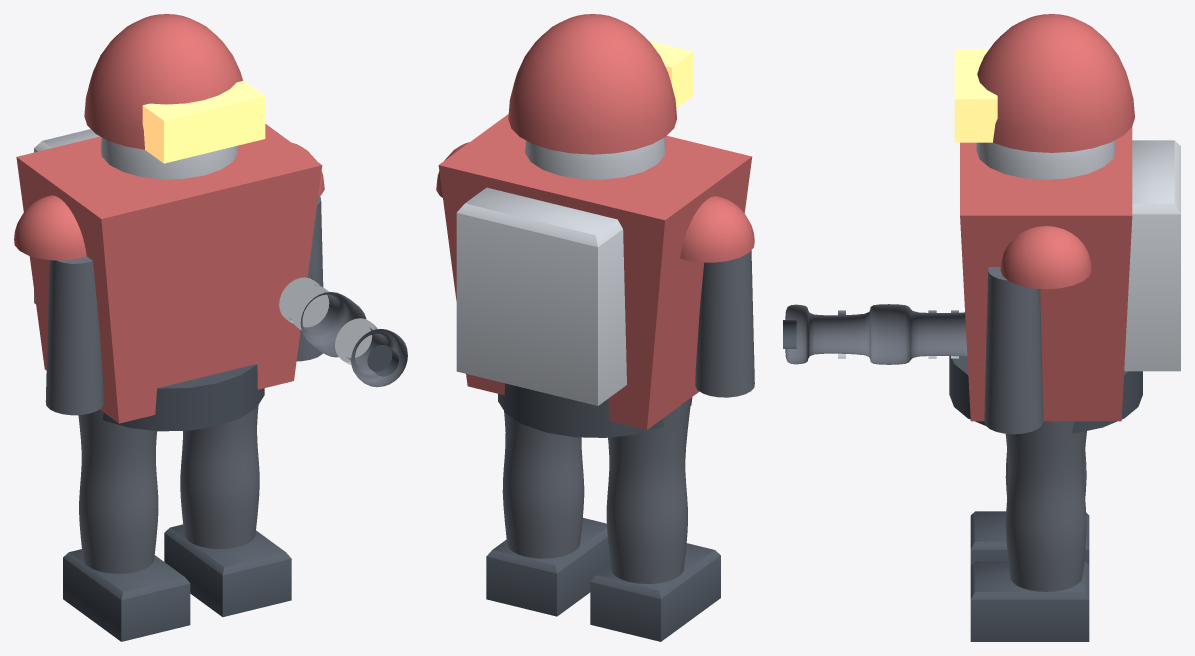
3 renders of one model, left to right at view 1: azimuth 30°, elevation 25°; view 2: azimuth 150°, elevation 25°; view 3: azimuth 270°, elevation 25°, orthographic. The views are drawn at different scales.
Parts seen in each view (by area): view 1: e2 Conscript; view 2: e2 Conscript; view 3: e2 Conscript.
Boxes of the visible parts, <box> form: e2 Conscript: <box>14,14,407,641</box>; e2 Conscript: <box>436,14,754,641</box>; e2 Conscript: <box>783,14,1180,641</box>.
Bounding box in the file's own units: 0.585 × 1.07 × 0.6646.
